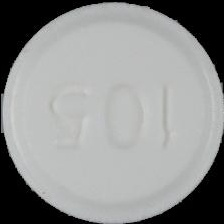24236-218: (0, 0, 224, 224)
